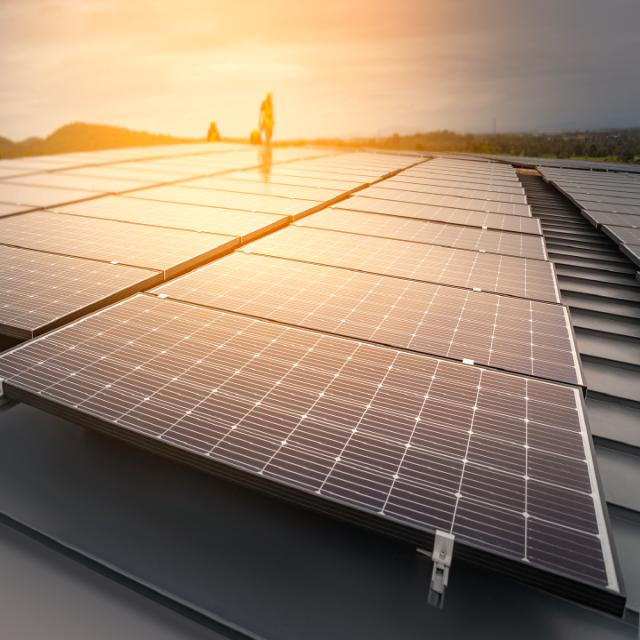clean-solar-panel: (0, 145, 625, 614)
